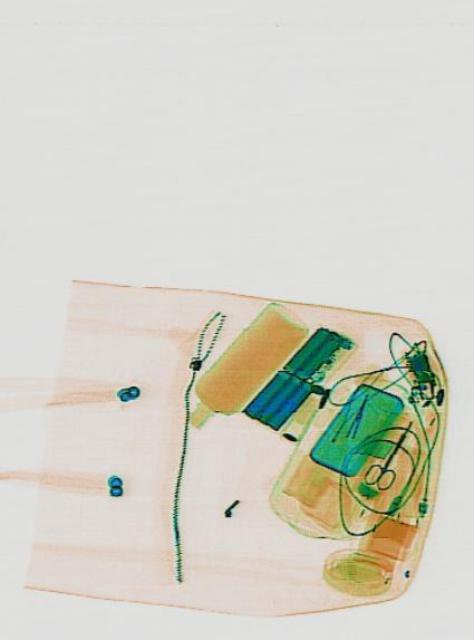Scissors: (360, 409, 420, 495)
